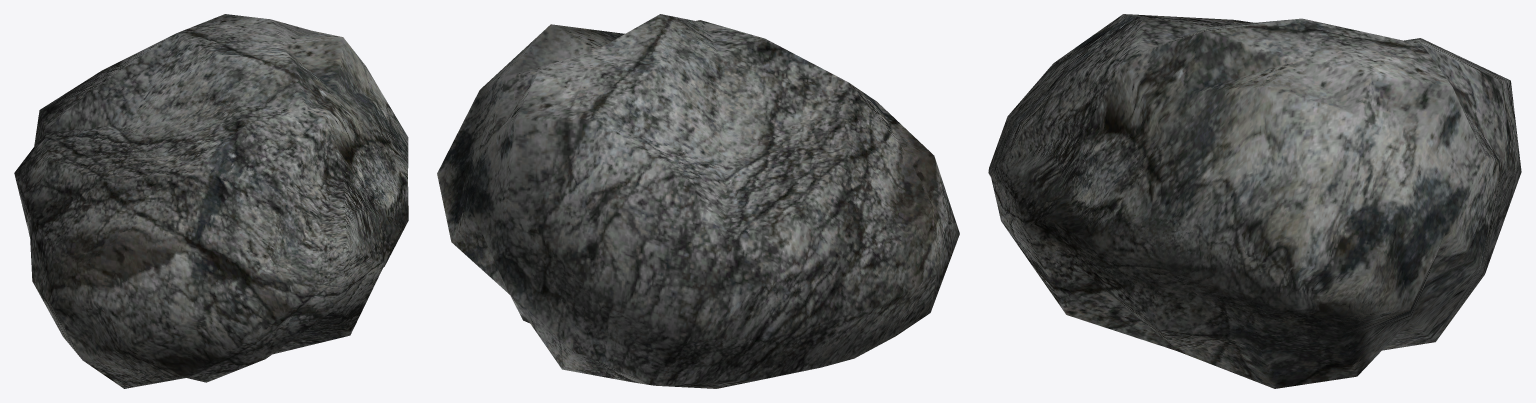
Rendered from stone_large02.dae.
3 renders of one model, left to right at view 1: azimuth 30°, elevation 25°; view 2: azimuth 150°, elevation 25°; view 3: azimuth 270°, elevation 25°, orthographic. The views are drawn at different scales.
Parts seen in each view (by area): view 1: stone_large02_mesh; view 2: stone_large02_mesh; view 3: stone_large02_mesh.
Boxes of the visible parts, <box> form: stone_large02_mesh: <box>14,14,408,388</box>; stone_large02_mesh: <box>437,14,959,388</box>; stone_large02_mesh: <box>988,14,1521,388</box>.
Bounding box in the file's own units: 1.83 × 1.25 × 1.79.
